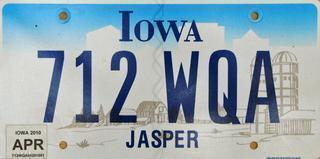placa de veiculo: (3, 2, 312, 157)
